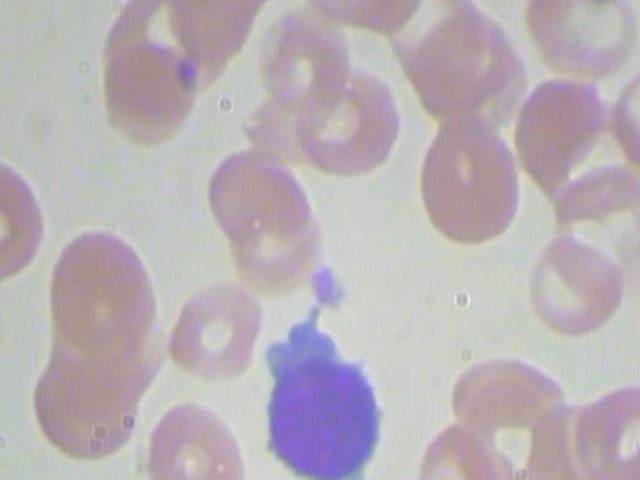Platelets: (304, 260, 352, 315)
RBC: (408, 111, 526, 248), (296, 63, 406, 180), (95, 39, 200, 150), (526, 232, 625, 343), (164, 276, 264, 383), (521, 0, 640, 86), (140, 389, 243, 480), (571, 378, 640, 480), (292, 0, 433, 36), (608, 57, 640, 181), (639, 269, 640, 375)
WBC: (252, 304, 401, 480)
